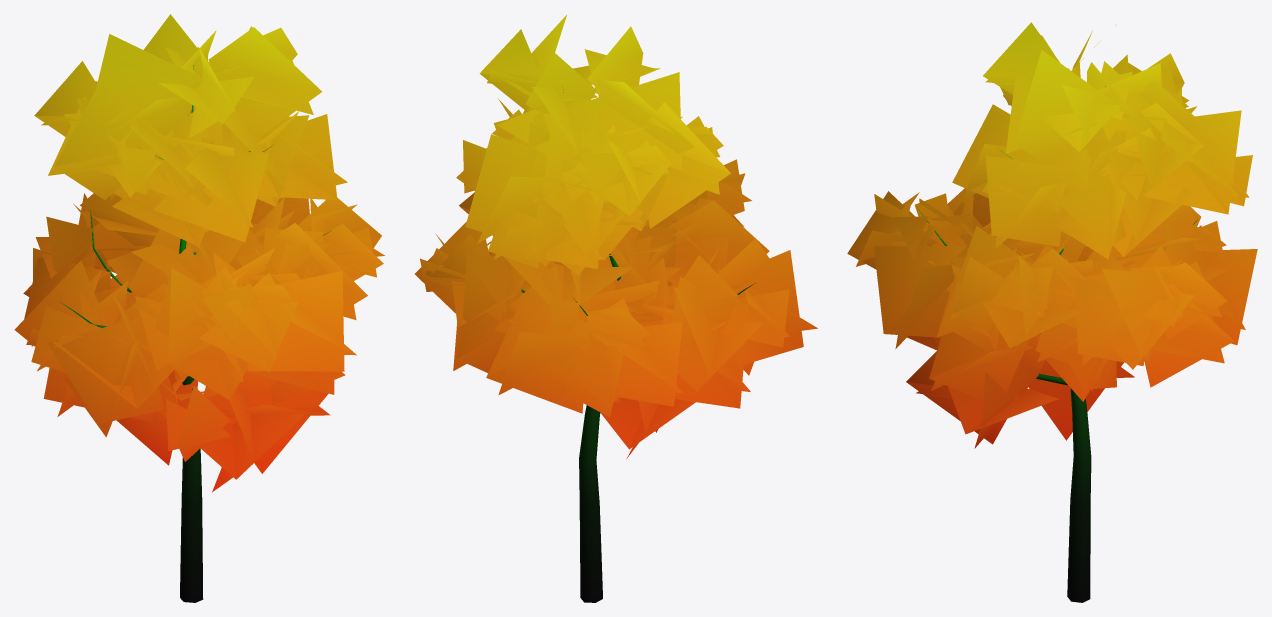
The model's file is small_tree.obj.
3 views of the same model, side by side, from view 1: azimuth 30°, elevation 25°; view 2: azimuth 150°, elevation 25°; view 3: azimuth 270°, elevation 25° (orthographic). The views are drawn at different scales.
Parts seen in each view (by area): view 1: SmallTree; view 2: SmallTree; view 3: SmallTree.
Boxes of the visible parts, x1,y1,x2,y2 form: SmallTree: [14, 14, 384, 602]; SmallTree: [414, 15, 817, 602]; SmallTree: [847, 22, 1257, 602].
Bounding box in the file's own units: 13.46 × 21.41 × 13.98.
